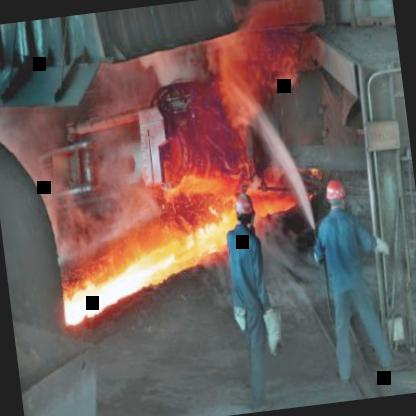helmet: (322, 178, 349, 218), (232, 189, 256, 233)
